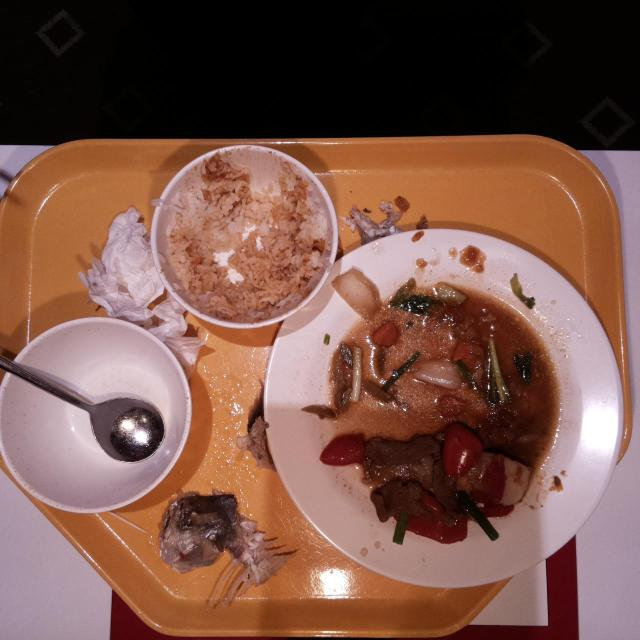Bone-fish: (177, 494, 296, 610)
Meat: (363, 433, 442, 523)
Rice: (177, 182, 311, 296)
Vegetable: (390, 278, 436, 314)
